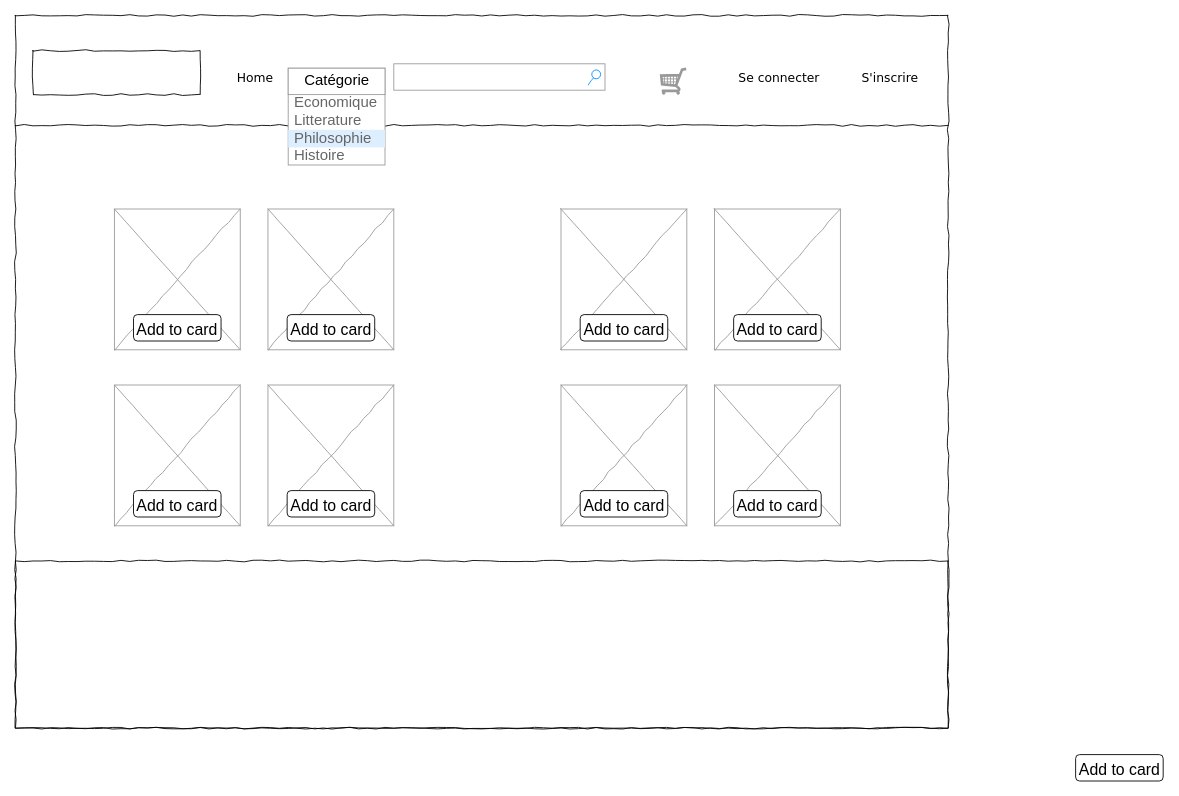
Some shapes in this 1179 by 796 pixel diagram are drawn without their labels. Each missing label, with the centre of its shape:
Footer: (481,644)
Ho&Khadija: (116,72)
Search: (499,76)
